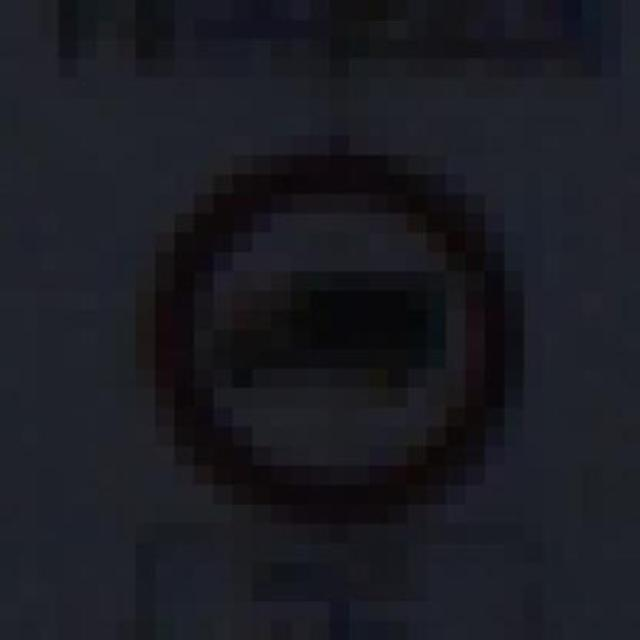Truck traffic is prohibited: (116, 116, 544, 544)
